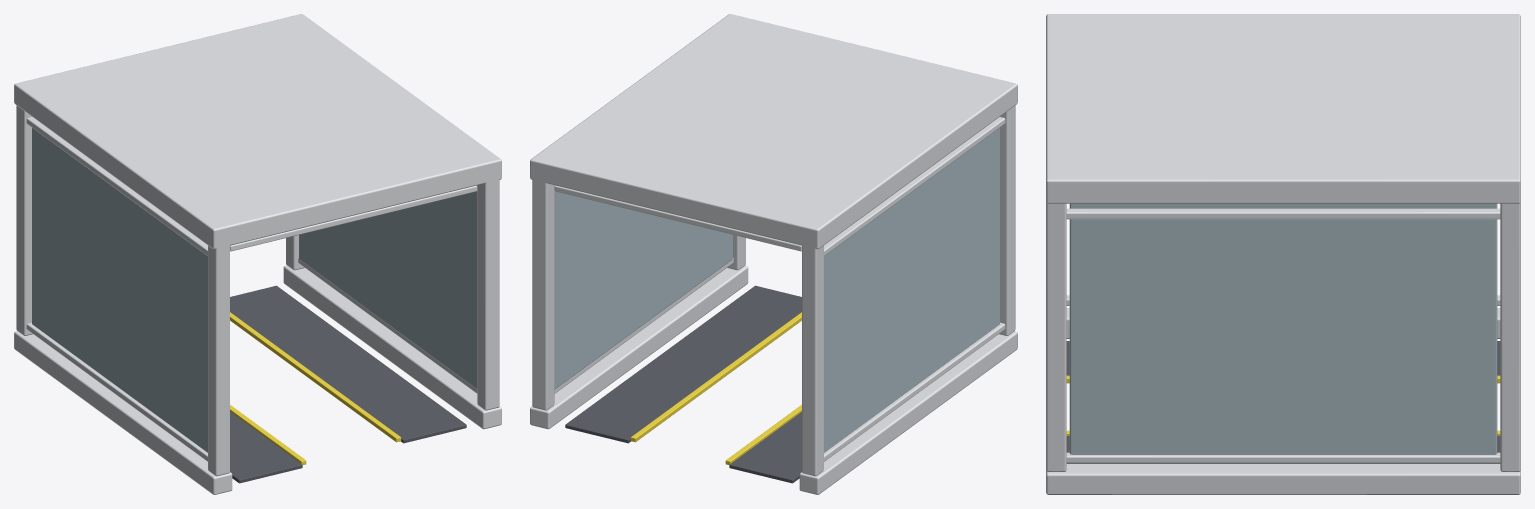
File: paint-booth-module.glb
3 renders of one model, left to right at view 1: azimuth 30°, elevation 25°; view 2: azimuth 150°, elevation 25°; view 3: azimuth 270°, elevation 25°, orthographic. The views are drawn at different scales.
Parts seen in each view (by area): view 1: paint-booth-module; view 2: paint-booth-module; view 3: paint-booth-module.
Part boxes in pixels (x1,y1,x2,y2): paint-booth-module: [14, 14, 501, 494]; paint-booth-module: [530, 14, 1017, 494]; paint-booth-module: [1046, 14, 1520, 494].
Size of the model in its own units: 5 by 4.4 by 6.
